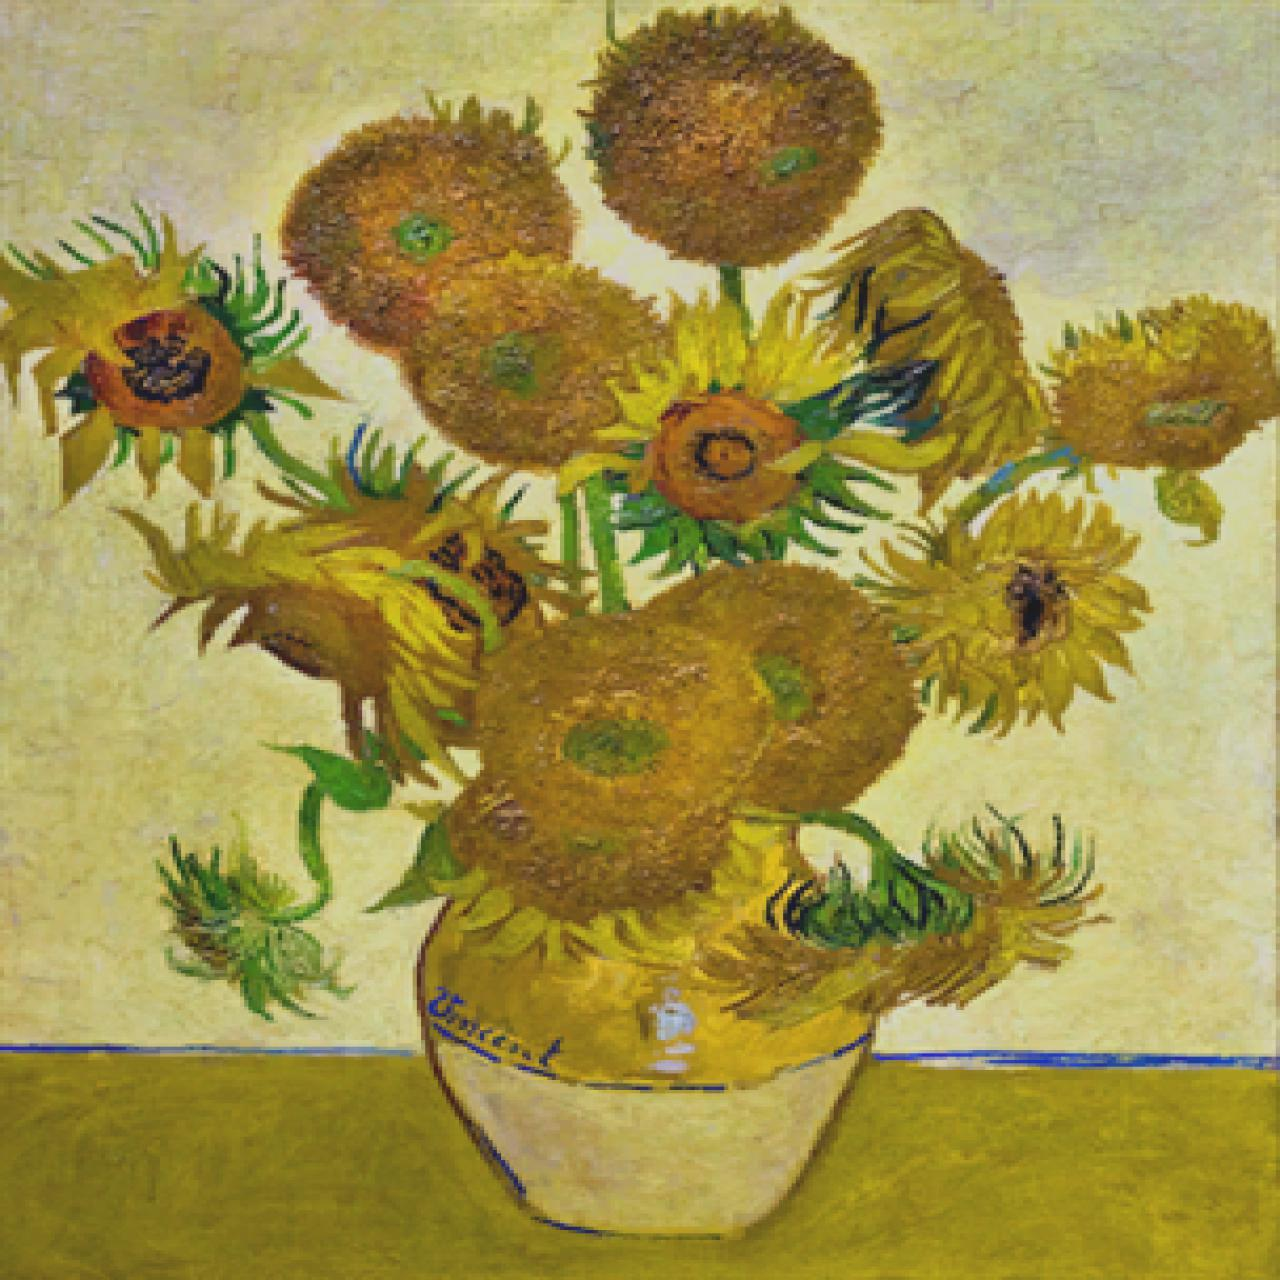Sunflower: (1, 1, 1276, 1278)
